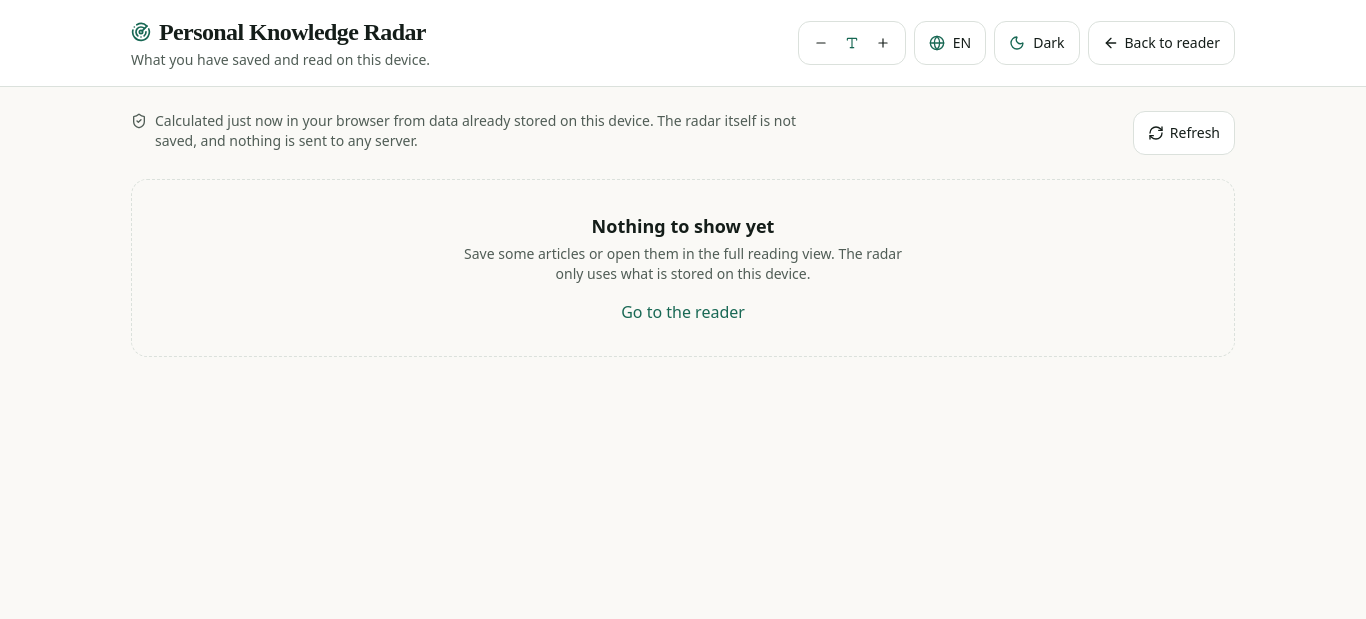
Test case: /radar page › refreshes from the database on request
expect the heading "Nothing to show yet" is shown: met, box [592, 214, 774, 238]
Click the button "Refresh": (1184, 133) [1133, 111, 1235, 155]
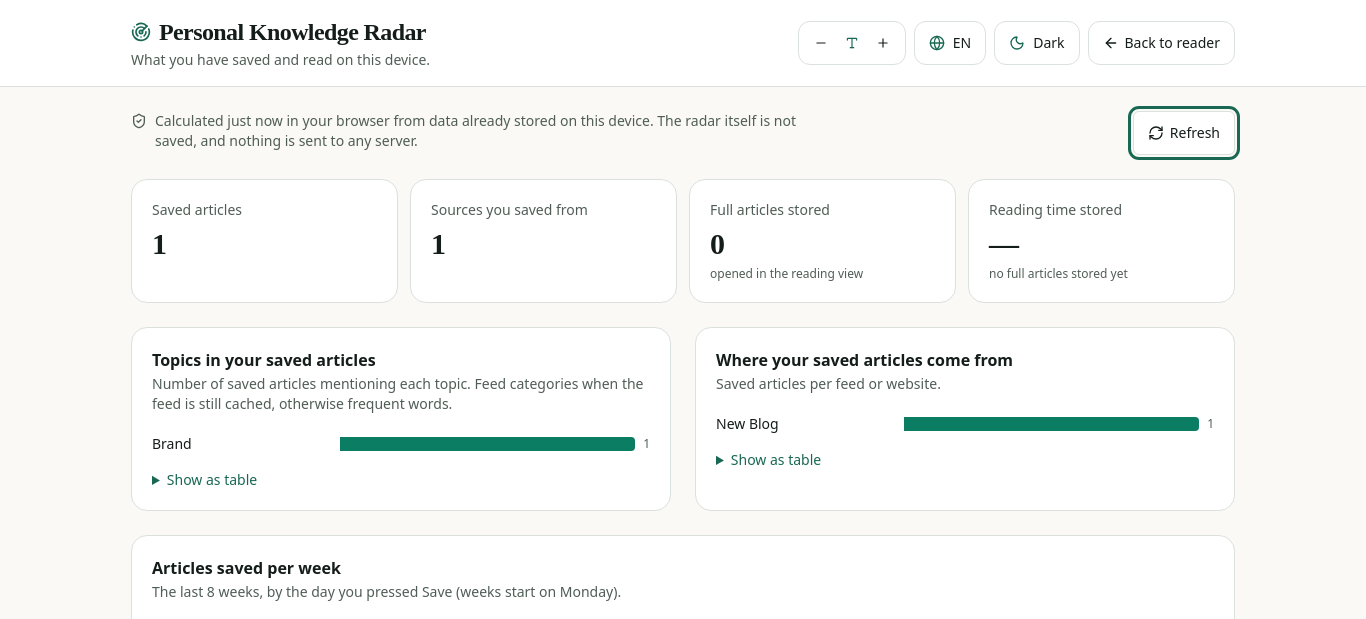
expect the 1st text "1" is shown: met, box [152, 227, 166, 260]
